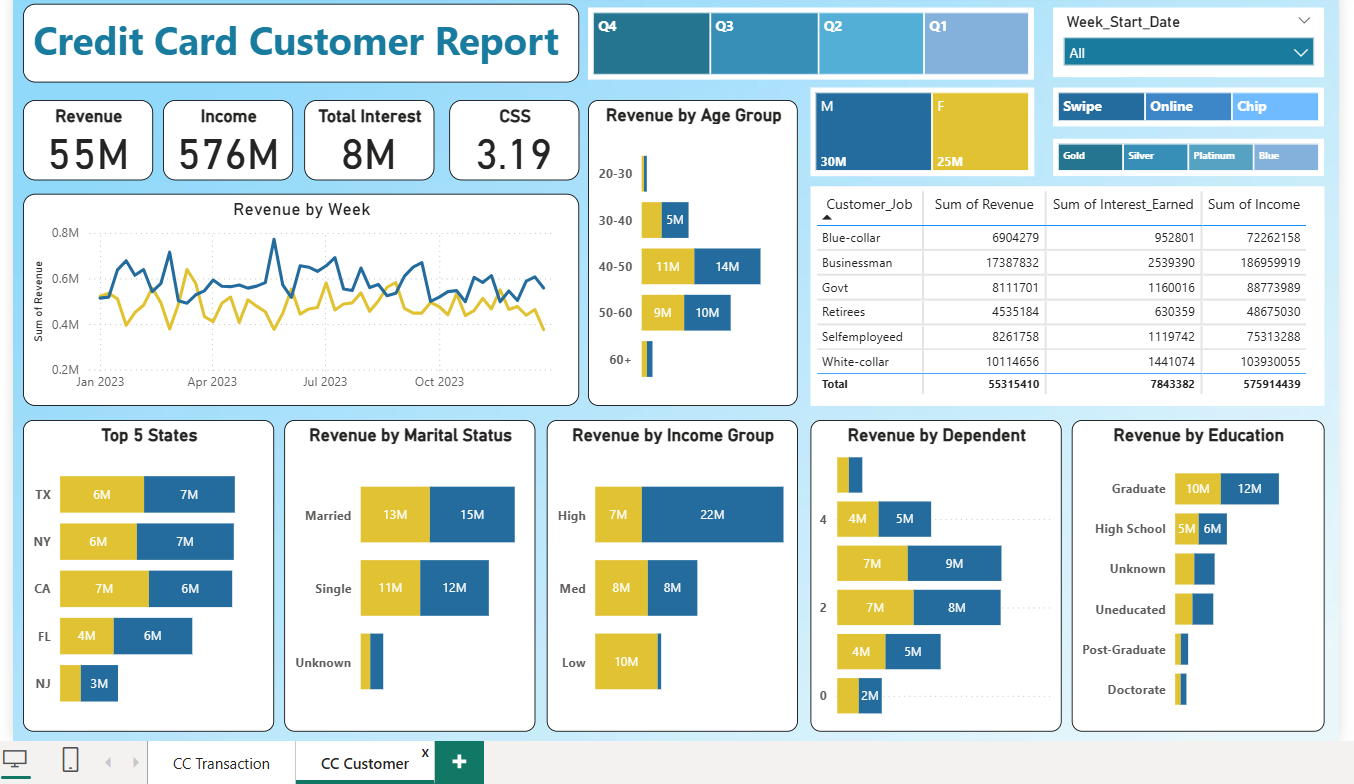

What the dashboard file says about the page in this screenshot:
{"tool":"powerbi","page":{"name":"CC Customer","canvas":[1280,720],"ordinal":1},"visuals":[{"type":"textbox","box":[9.7,8.4,536.9,76],"z":0},{"type":"barChart","title":" Revenue by Income Group","fields":{"Category":["customer.IncomeGroup"],"Y":["Sum(credit_card.Revenue)"],"Series":["customer.Gender"]},"box":[515.2,410.2,242.5,300.4],"z":1000},{"type":"tableEx","fields":{"Values":["customer.Customer_Job","Sum(credit_card.Revenue)","Sum(credit_card.Interest_Earned)","Sum(customer.Income)"]},"box":[769.7,184.6,495.8,212.3],"z":2000},{"type":"card","title":"Revenue","fields":{"Values":["Sum(credit_card.Revenue)"]},"box":[9.7,101.3,125.5,77.2],"z":3000},{"type":"card","title":"Income","fields":{"Values":["Sum(customer.Income)"]},"box":[144.8,101.3,125.5,77.2],"z":4000},{"type":"card","title":"Total Interest","fields":{"Values":["Sum(credit_card.Interest_Earned)"]},"box":[281.1,101.3,125.5,77.2],"z":5000},{"type":"card","title":"CSS","fields":{"Values":["Avg(customer.Cust_Satisfaction_Score)"]},"box":[421,101.3,125.5,77.2],"z":6000},{"type":"slicer","fields":{"Values":["credit_card.Week_Start_Date"]},"box":[1003.8,12.1,261.8,67.6],"z":7000},{"type":"treemap","fields":{"Group":["credit_card.Qtr"],"Values":["Avg(credit_card.Client_Num)"]},"box":[555,12.1,430.7,70],"z":8000},{"type":"treemap","fields":{"Values":["Avg(credit_card.Client_Num)"],"Group":["credit_card.Use Chip"]},"box":[1003.8,89.3,261.8,37.4],"z":9000},{"type":"treemap","fields":{"Group":["credit_card.Card_Category"],"Values":["Min(credit_card.Client_Num)"]},"box":[1003.8,138.7,261.8,36.2],"z":10000},{"type":"treemap","title":" Gender","fields":{"Group":["customer.Gender"],"Values":["Sum(credit_card.Revenue)"]},"box":[769.7,89.3,216,85.7],"z":11000},{"type":"lineChart","title":" Revenue by Week ","fields":{"Y":["Sum(credit_card.Revenue)"],"Series":["customer.Gender"],"Category":["credit_card.Week_Start_Date.Variation.Date Hierarchy.Year","credit_card.Week_Start_Date.Variation.Date Hierarchy.Month","credit_card.Week_Start_Date.Variation.Date Hierarchy.Day"]},"box":[9.7,191.8,536.9,205.1],"z":12000},{"type":"barChart","title":" Revenue by Age Group","fields":{"Category":["customer.AgeGroup"],"Y":["Sum(credit_card.Revenue)"],"Series":["customer.Gender"]},"box":[555,101.3,202.7,295.6],"z":13000},{"type":"barChart","title":" Revenue by Education","fields":{"Category":["customer.Education_Level"],"Y":["Sum(credit_card.Revenue)"],"Series":["customer.Gender"]},"box":[1021.9,410.2,243.7,300.4],"z":14000},{"type":"barChart","title":" Revenue by Dependent ","fields":{"Category":["customer.Dependent_Count"],"Y":["Sum(credit_card.Revenue)"],"Series":["customer.Gender"]},"box":[769.7,410.2,242.5,300.4],"z":15000},{"type":"barChart","title":"Top 5 States","fields":{"Category":["customer.state_cd"],"Y":["Sum(credit_card.Revenue)"],"Series":["customer.Gender"]},"box":[9.7,410.2,242.5,300.4],"z":16000},{"type":"barChart","title":" Revenue by Marital Status","fields":{"Category":["customer.Marital_Status"],"Y":["Sum(credit_card.Revenue)"],"Series":["customer.Gender"]},"box":[261.8,410.2,242.5,300.4],"z":17000}]}

Visuals, with their boxes in screenshot pixels (x1, y1, x2, y2):
textbox: 17/0/577/77
" Revenue by Income Group" barChart: 545/417/797/731
tableEx - customer.Customer_Job x Sum(credit_card.Revenue): 810/182/1327/403
"Revenue" card: 17/95/148/176
"Income" card: 158/95/289/176
"Total Interest" card: 300/95/431/176
"CSS" card: 446/95/577/176
slicer - credit_card.Week_Start_Date: 1054/2/1327/73
treemap - credit_card.Qtr x Avg(credit_card.Client_Num): 586/2/1035/75
treemap - Avg(credit_card.Client_Num) x credit_card.Use Chip: 1054/83/1327/122
treemap - credit_card.Card_Category x Min(credit_card.Client_Num): 1054/134/1327/172
" Gender" treemap: 810/83/1035/172
" Revenue by Week " lineChart: 17/190/577/403
" Revenue by Age Group" barChart: 586/95/797/403
" Revenue by Education" barChart: 1073/417/1327/731
" Revenue by Dependent " barChart: 810/417/1063/731
"Top 5 States" barChart: 17/417/270/731
" Revenue by Marital Status" barChart: 280/417/533/731
